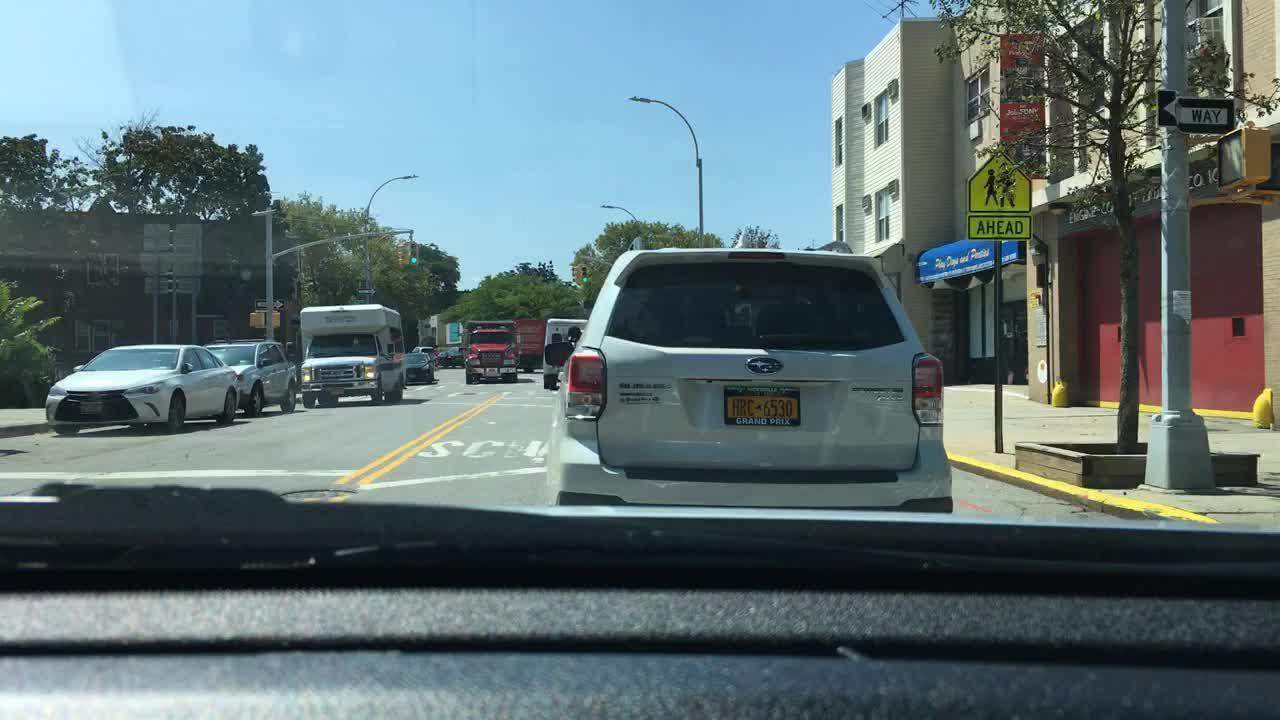subaru: (739, 349, 794, 385)
